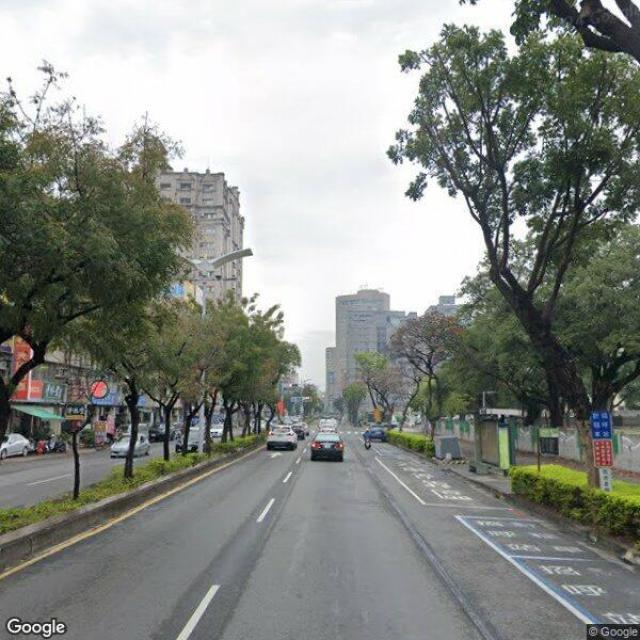illegalparking: (365, 426, 386, 440)
